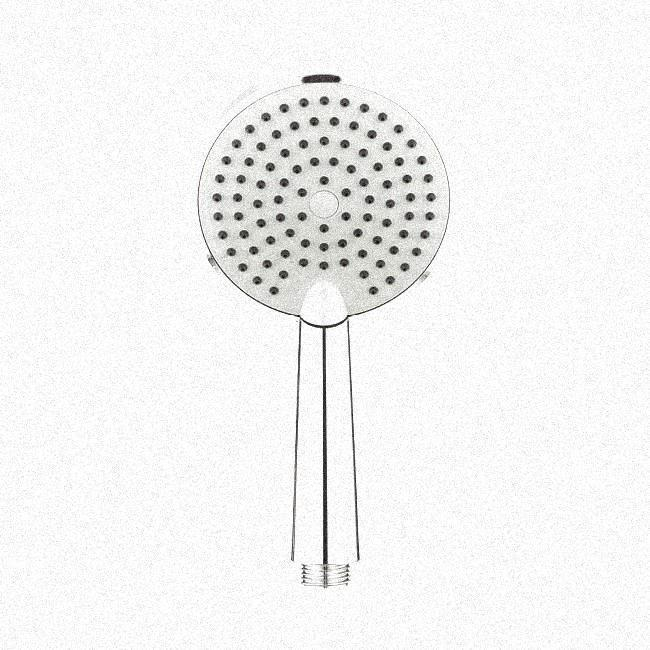Ducha: (186, 71, 486, 587)
